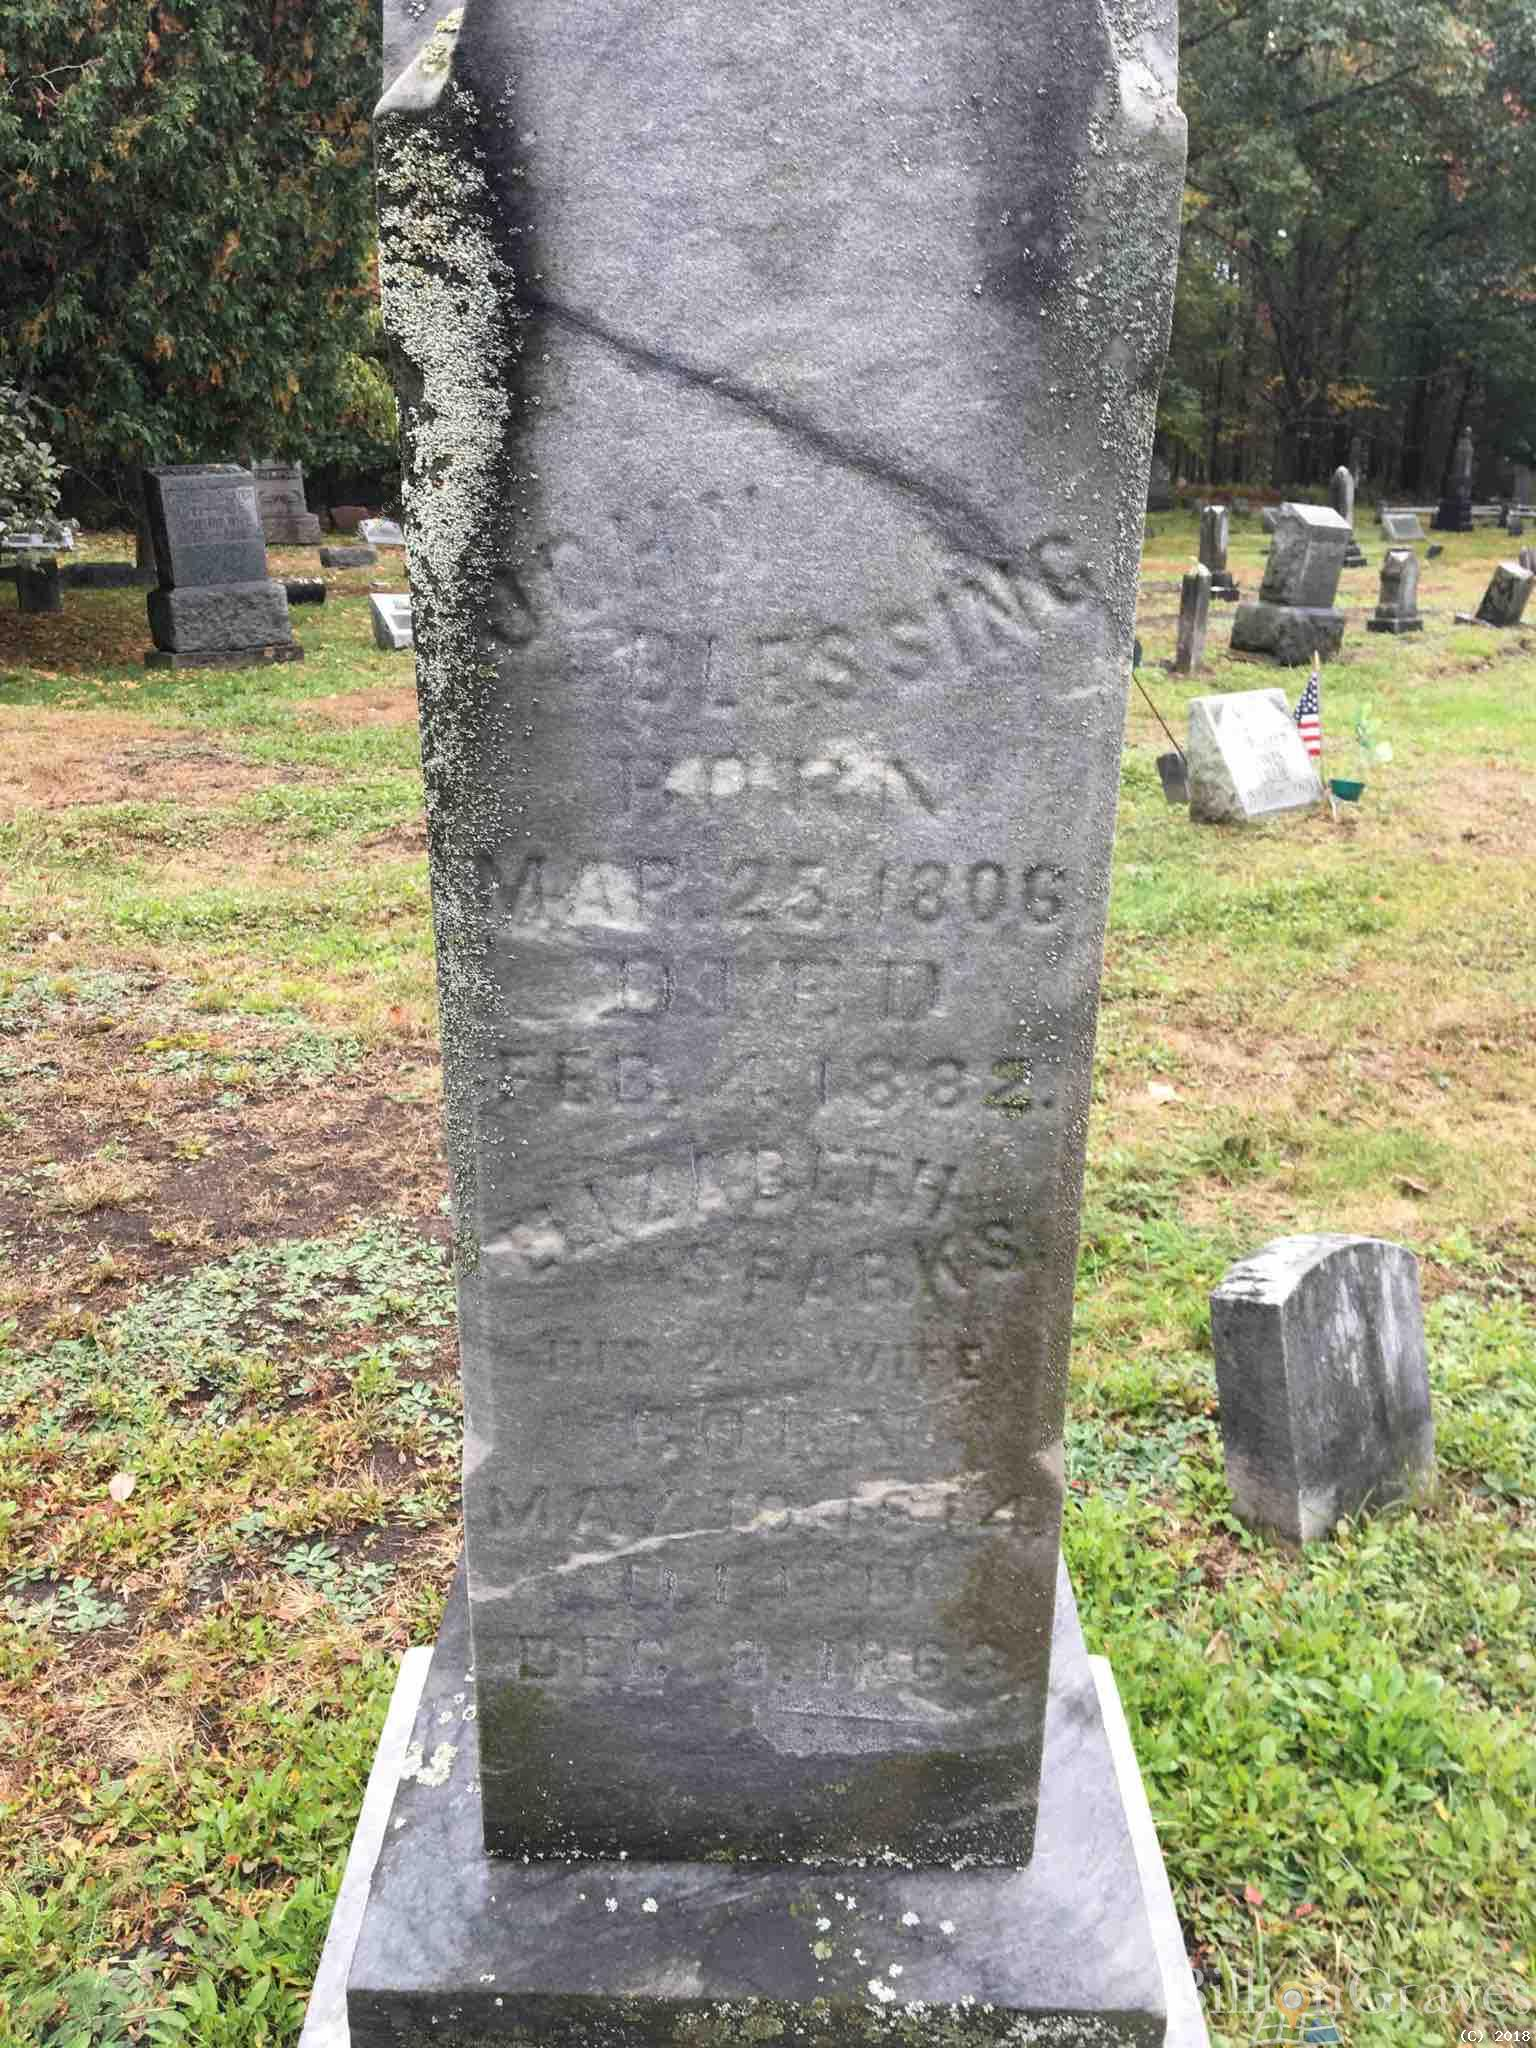obelisk: (376, 0, 1179, 1892)
